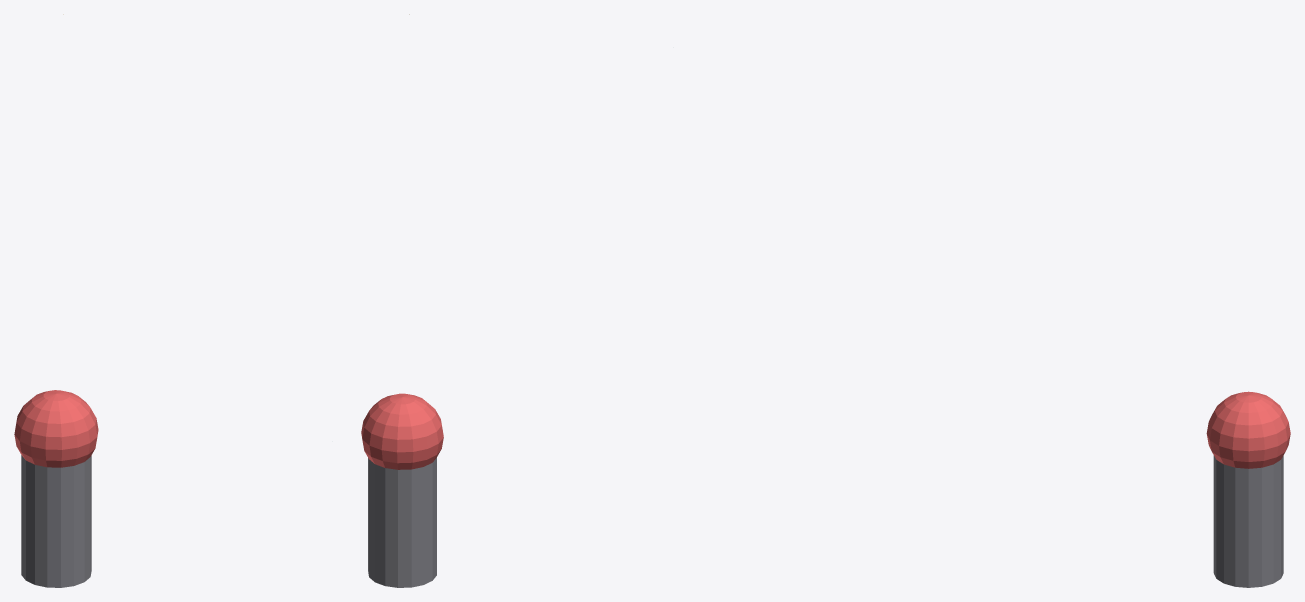
Rendered from firework_6tou_3d.glb.
The picture shows the model from 3 angles, left to right: view 1: azimuth 30°, elevation 25°; view 2: azimuth 150°, elevation 25°; view 3: azimuth 270°, elevation 25°; orthographic projection.
Visible parts, largest first — view 1: firework_tube, firework_shell; view 2: firework_tube, firework_shell; view 3: firework_tube, firework_shell.
Boxes of the visible parts, x1,y1,x2,y2 form: firework_tube: (21, 455, 91, 587); firework_shell: (14, 390, 98, 467); firework_tube: (368, 457, 436, 587); firework_shell: (361, 393, 443, 469); firework_tube: (1213, 455, 1283, 587); firework_shell: (1206, 391, 1290, 468).
Bounding box in the file's own units: 0.12 × 0.8804 × 0.84.
